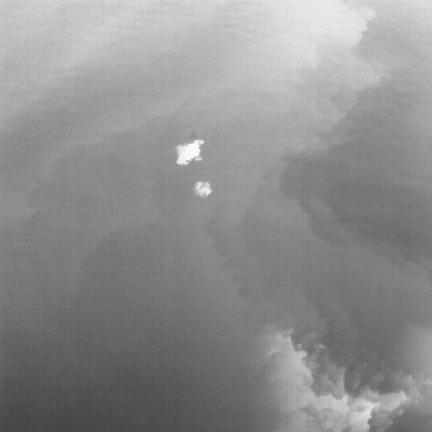flukeprints: (176, 139, 203, 165), (194, 181, 211, 197)
